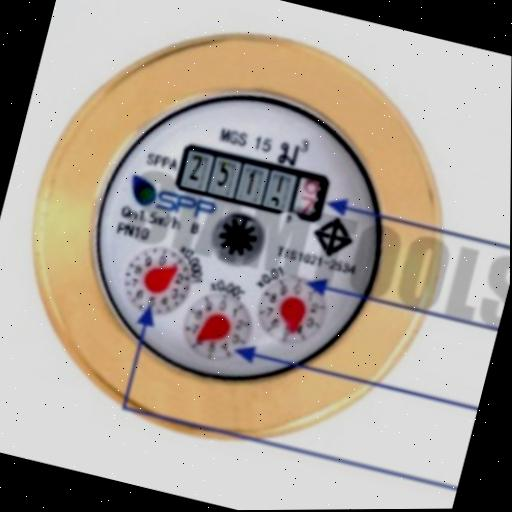1: (266, 174, 290, 210), (240, 166, 263, 202)
2: (183, 153, 207, 190)
5: (211, 161, 235, 196)
6: (294, 177, 322, 217)
border_water_meter_number: (172, 141, 333, 227)
